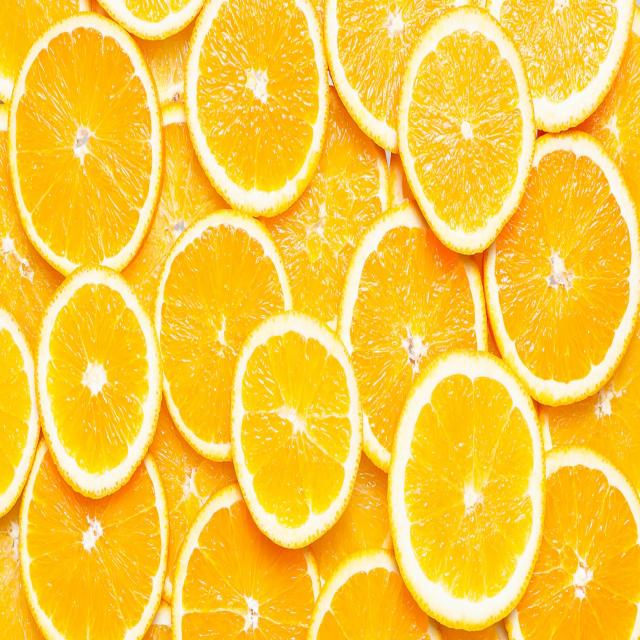orange: (330, 198, 524, 497), (5, 14, 191, 281), (482, 123, 635, 417), (392, 338, 555, 610), (173, 3, 357, 236), (147, 220, 310, 470), (386, 14, 550, 255), (221, 317, 377, 570), (11, 422, 184, 632), (38, 258, 180, 491), (315, 5, 511, 154), (498, 438, 640, 640), (307, 0, 491, 148), (164, 489, 338, 640), (487, 13, 632, 152), (310, 526, 438, 640)
